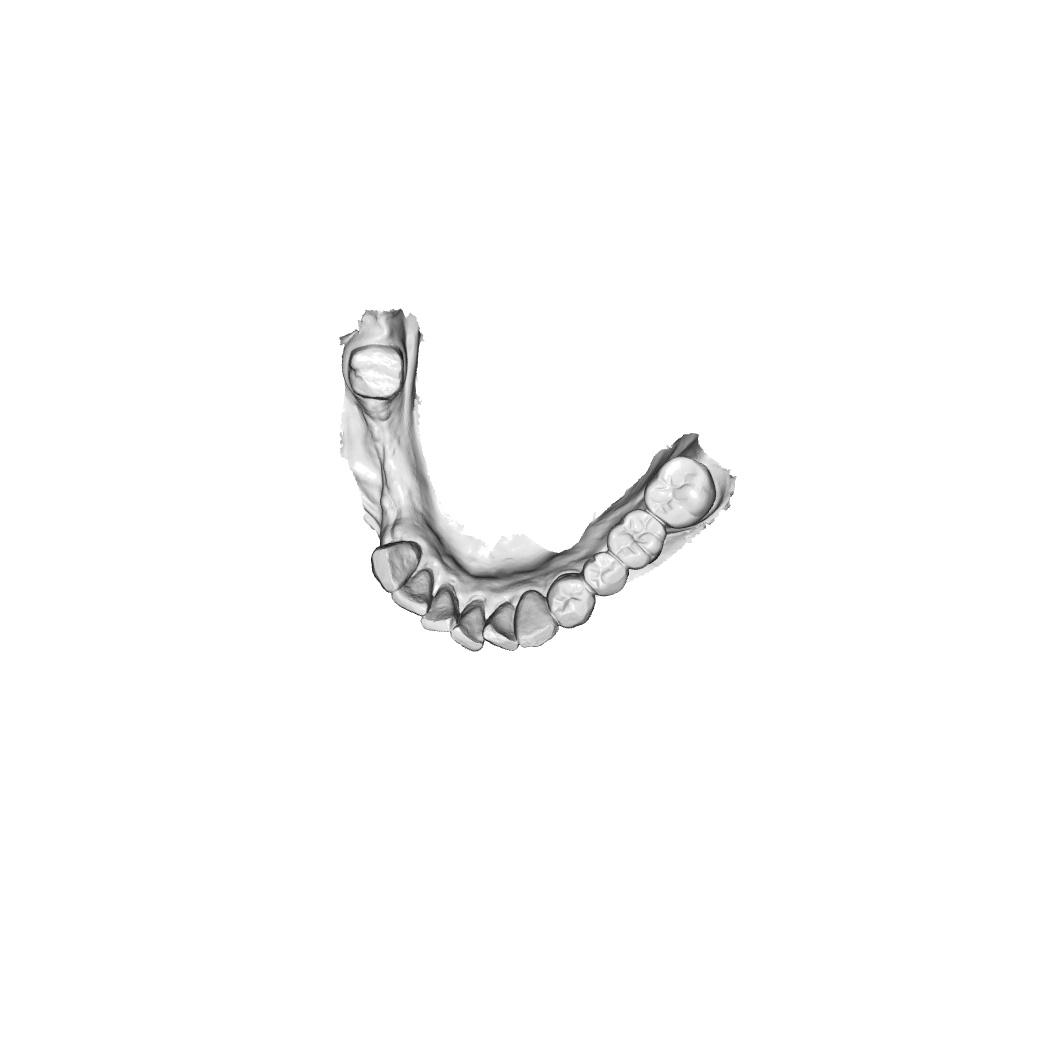canine: (370, 539, 423, 594), (513, 589, 559, 649)
crown: (346, 342, 406, 401)
incisor: (390, 567, 435, 617), (419, 584, 463, 634), (482, 599, 520, 653), (448, 603, 486, 654)
molar: (643, 455, 718, 530), (605, 507, 667, 571)
premolar: (545, 572, 597, 630), (582, 550, 629, 598)
